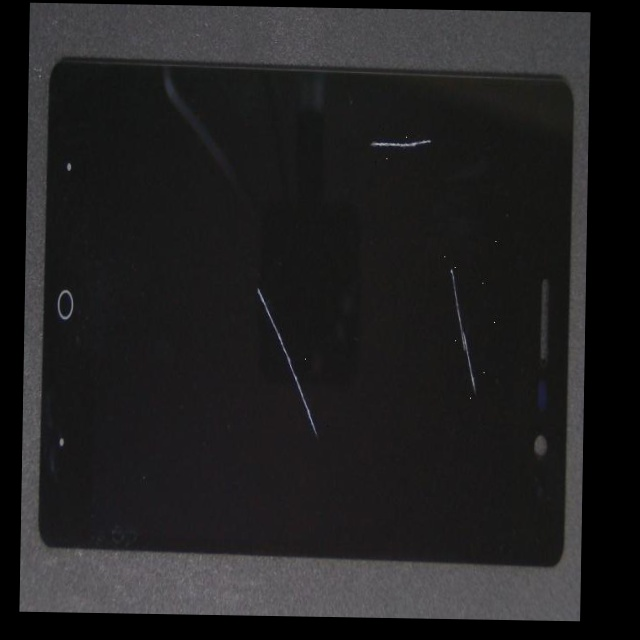scratch: (189, 73, 589, 494), (138, 94, 366, 423), (198, 97, 547, 287)
